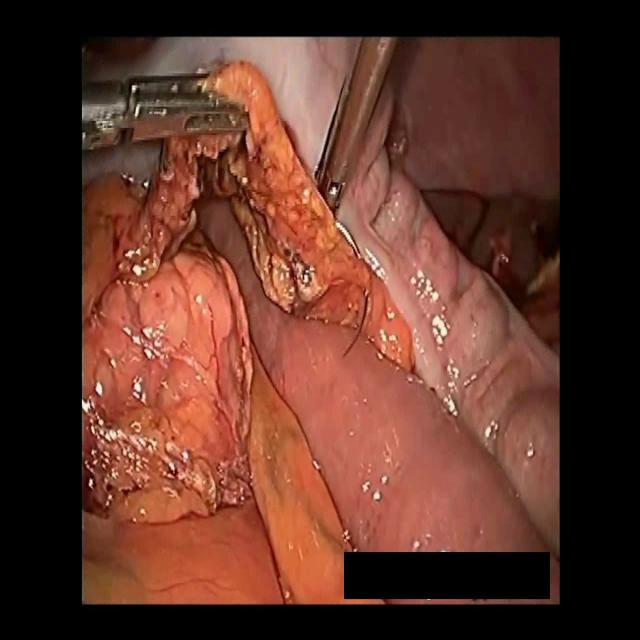surgical-area: (80, 36, 558, 605)
surgical-tool: (315, 36, 400, 216), (81, 70, 248, 153)
